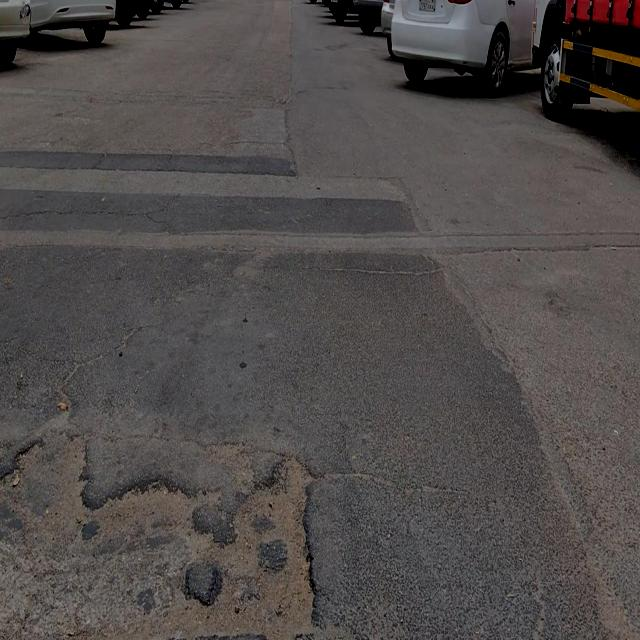Potholes: (81, 473, 218, 640), (210, 445, 320, 640)
